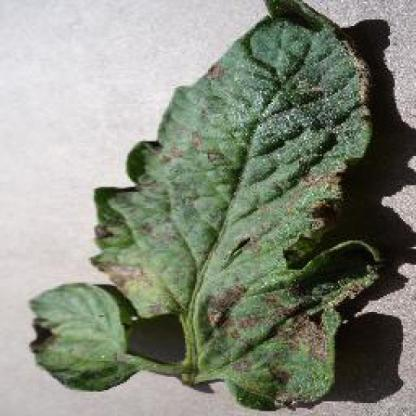Tomato_Blight: (30, 1, 378, 406)
